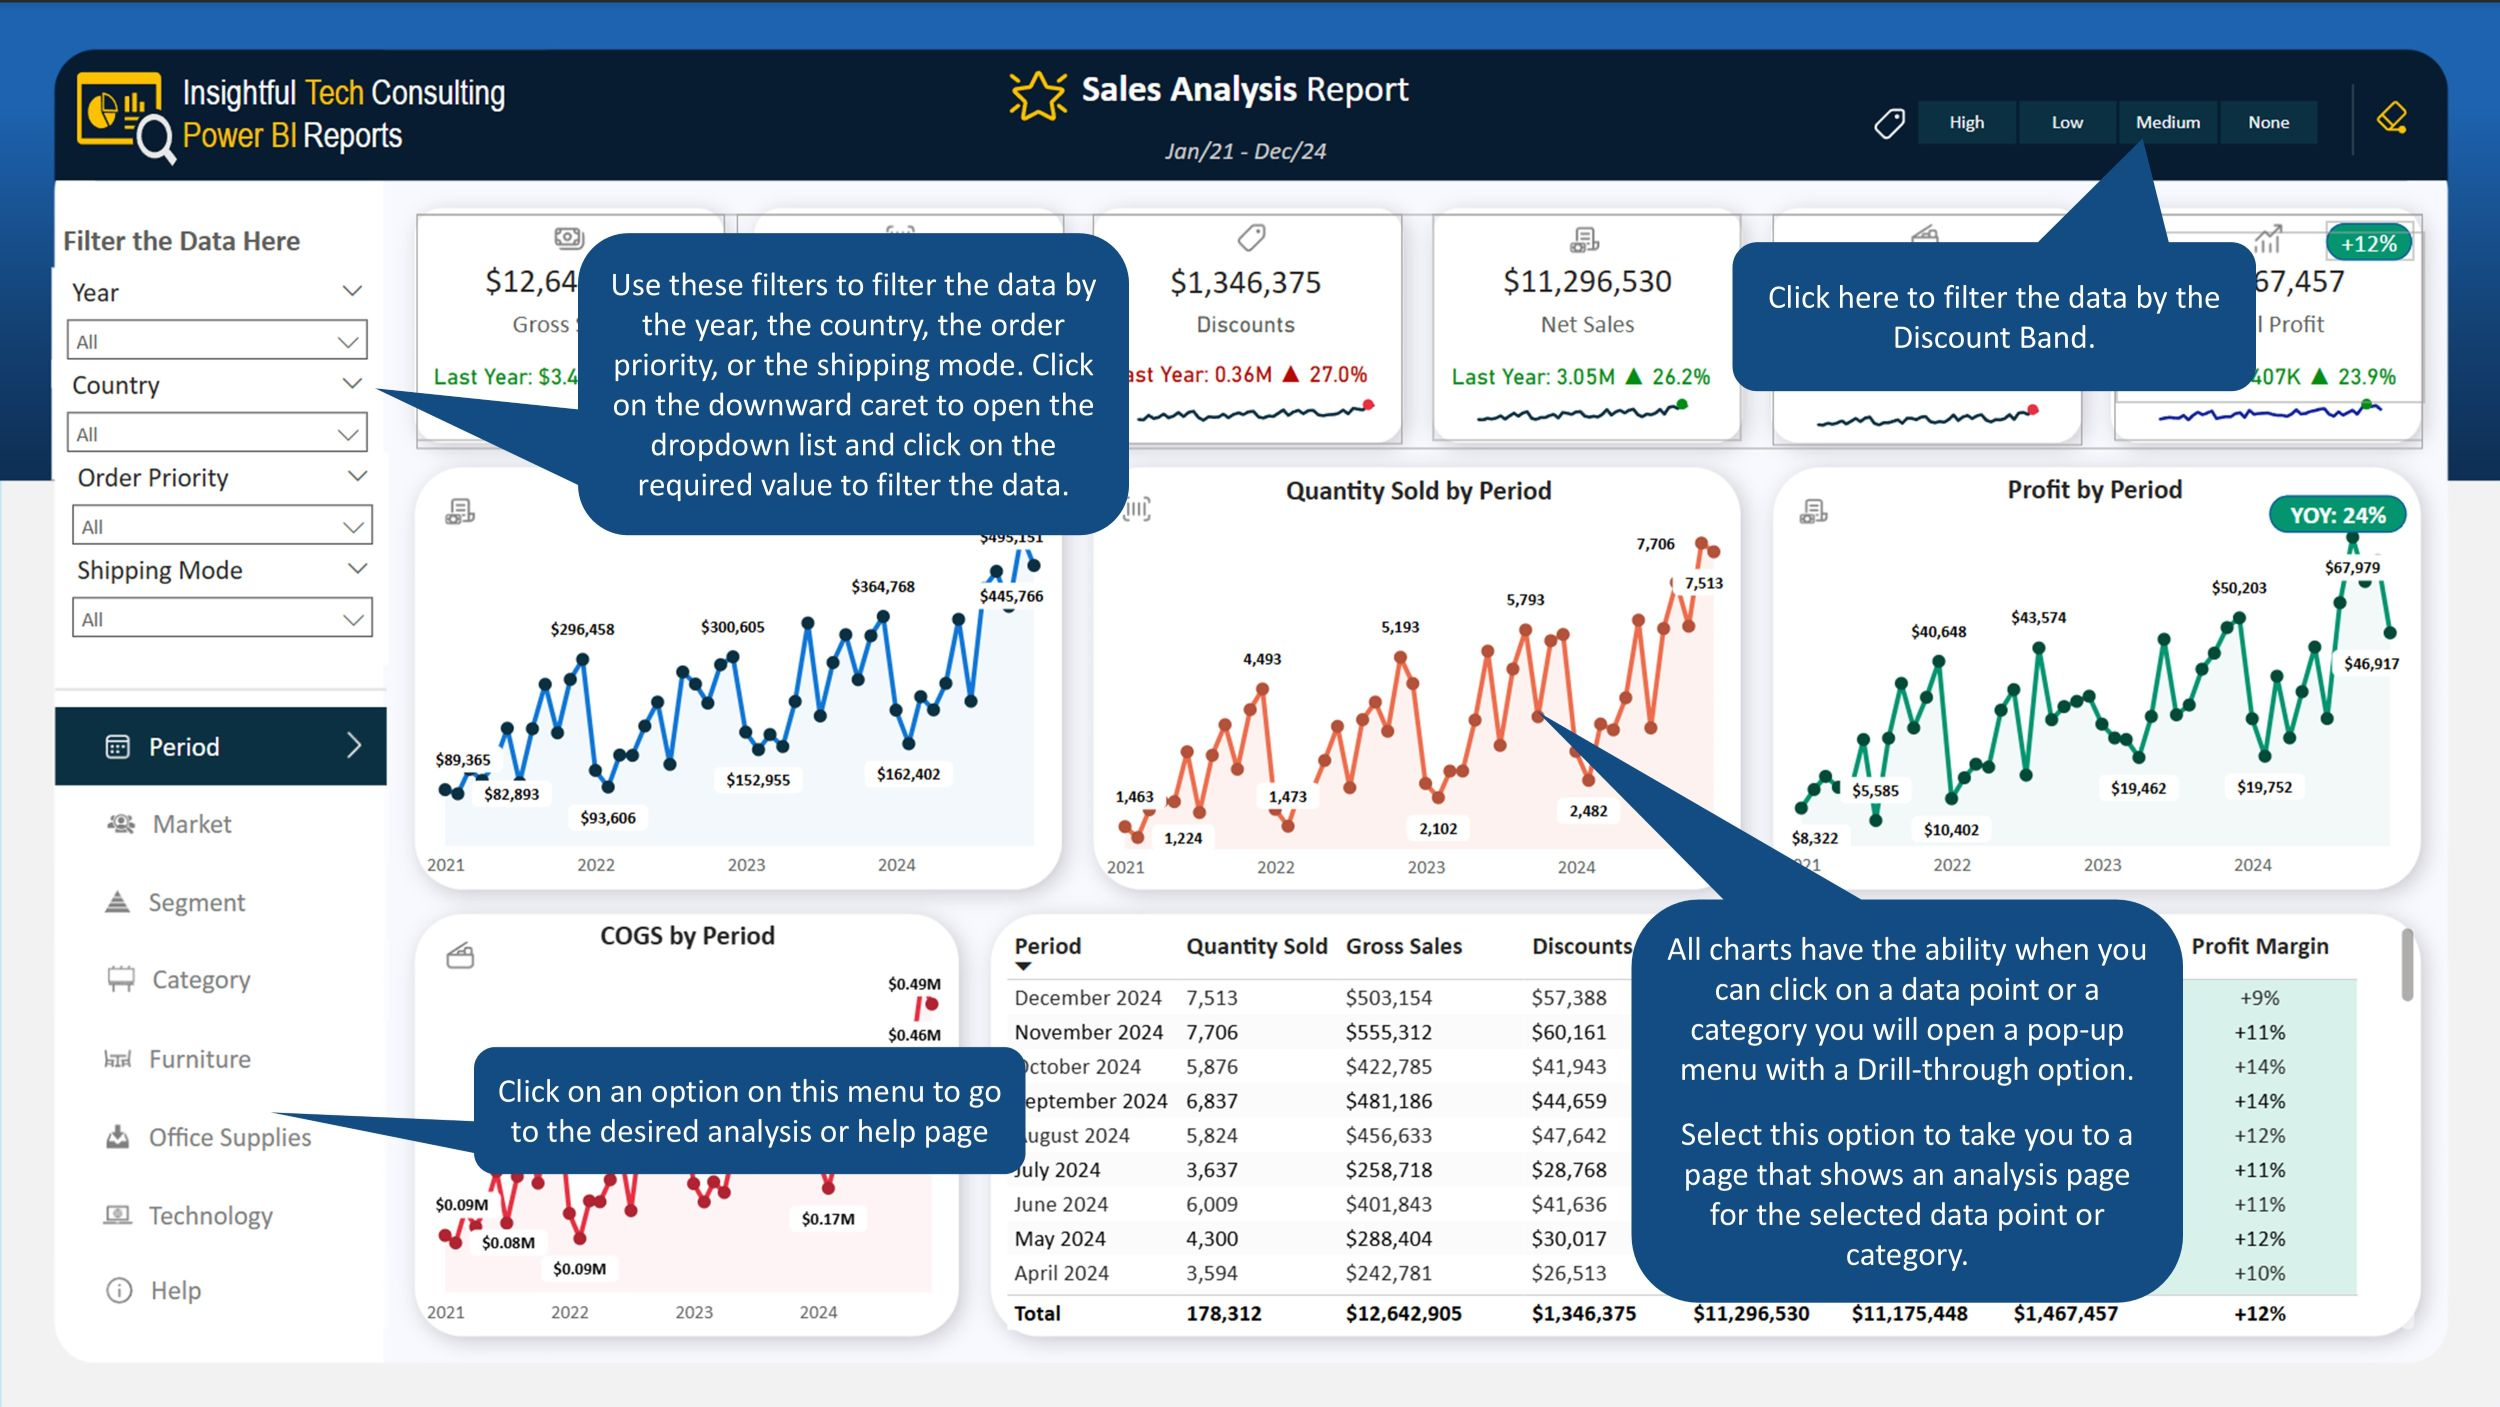

Layout of this report page (visuals, bound fields, positions):
{"tool":"powerbi","page":{"name":"Sales Analysis","canvas":[1600,900],"ordinal":0},"visuals":[{"type":"slicer","fields":{"Values":["Calendar.Year"]},"box":[1346.6,38.7,140,78.5],"z":0},{"type":"actionButton","title":"Gross Sales Icon","box":[348.4,135,31.9,30.7],"z":0,"group":"g8"},{"type":"group","id":"g1","title":"Profit","box":[1351.7,135,197.5,144.4],"z":0,"group":"g6"},{"type":"group","id":"g2","title":"Profit Margin","box":[1487.6,139,55,25.2],"z":0,"group":"g1"},{"type":"shape","title":"Profit Margin Pill","box":[1487.6,140.2,55,24],"z":0,"group":"g2"},{"type":"pivotTable","title":"Net Sales Sparkline","fields":{"Values":["SparklineData(_All Measures.Net Sales_[Calendar.YearMonth])"]},"box":[915.8,219,197.1,60.4],"z":0,"group":"g4"},{"type":"pivotTable","title":"Discounts Sparkline","fields":{"Values":["SparklineData(_All Measures.Total Discounts_[Calendar.YearMonth])"]},"box":[698.5,221.7,198.3,60.4],"z":0,"group":"g5"},{"type":"pivotTable","title":"Cogs Sparkline","fields":{"Values":["SparklineData(_All Measures.Total COGS_[Calendar.YearMonth])"]},"box":[1133.5,222.3,197.7,60.7],"z":0,"group":"g3"},{"type":"pivotTable","title":"Qty Sold Sparkline","fields":{"Values":["SparklineData(_All Measures.Quantity Sold_[Calendar.YearMonth])"]},"box":[470.6,225.6,209.4,60.3],"z":0,"group":"g7"},{"type":"actionButton","title":"Period Button Active","box":[35.2,300.7,212,50],"z":0,"group":"g12"},{"type":"actionButton","title":"Net Sales Chart Icon","box":[279.9,310,30,30],"z":0,"group":"g11"},{"type":"shape","title":"Profit Margin Pill","box":[1450.7,315,88,24],"z":0,"group":"g9"},{"type":"tableEx","title":"Period Table","fields":{"Values":["Calendar.Reporting Period","_All Measures.Quantity Sold","_All Measures.Gross Sales","_All Measures.Total Discounts","_All Measures.Net Sales","_All Measures.Total COGS","_All Measures.Total Profit","_All Measures.Profit Margin Formatted"]},"box":[632.9,586,916.7,267.7],"z":0,"group":"g10"},{"type":"card","title":"Date Selected Text","fields":{"Values":["_All Measures.Date Selection"]},"box":[735.3,76.3,122.9,38.7],"z":1000},{"type":"group","id":"g3","title":"Cogs","box":[1133.5,135,197.7,148],"z":1000,"group":"g6"},{"type":"card","title":"Profit Margin Text","fields":{"Values":["_All Measures.Profit Margin Formatted"]},"box":[1487.6,139,54.5,24.2],"z":1000,"group":"g2"},{"type":"cardVisual","title":"Qty Sold Card","fields":{"Data":["_All Measures.Quantity Sold"]},"box":[482.3,146,196.9,109.3],"z":1000,"group":"g7"},{"type":"cardVisual","title":"Net Sales Card","fields":{"Data":["_All Measures.Net Sales"]},"box":[916.4,146,196.9,109.3],"z":1000,"group":"g4"},{"type":"cardVisual","title":"Cogs Card","fields":{"Data":["_All Measures.Total COGS"]},"box":[1133.5,146,196.4,109.9],"z":1000,"group":"g3"},{"type":"cardVisual","title":"Discounts Card","fields":{"Data":["Calendar.Total Discounts"]},"box":[699.1,146.3,196.9,109.3],"z":1000,"group":"g5"},{"type":"pivotTable","title":"Gross Sales Sparkline","fields":{"Values":["SparklineData(_All Measures.Total Sales_[Calendar.YearMonth])"]},"box":[266.1,219,197.1,60.4],"z":1000,"group":"g8"},{"type":"pivotTable","title":"Profit Sparkline","fields":{"Values":["SparklineData(_All Measures.Total Profit_[Calendar.YearMonth])"]},"box":[1351.7,219,197.1,60.4],"z":1000,"group":"g1"},{"type":"actionButton","title":"Arrow","box":[207,300,32.2,50.2],"z":1000,"group":"g12"},{"type":"card","title":"Profit YOY Card","fields":{"Values":["_All Measures.Profit YOY% Formatted"]},"box":[1451,307,88,43.2],"z":1000,"group":"g9"},{"type":"actionButton","title":"Profit Chart Icon","box":[1146,310,28.8,30.4],"z":1000,"group":"g11"},{"type":"areaChart","title":"COGS by Market","fields":{"Y":["_All Measures.Total COGS"],"Category":["Calendar.Reporting Period"]},"box":[266,586,347.3,267.7],"z":1000,"group":"g10"},{"type":"textbox","title":"Report Title","box":[679.6,35.3,234.5,41],"z":2000},{"type":"actionButton","title":"Qty Sold Icon","box":[560.5,135,29.6,30.8],"z":2000,"group":"g7"},{"type":"actionButton","title":"Discounts Icon","box":[784.7,135,29.6,30.8],"z":2000,"group":"g5"},{"type":"group","id":"g4","title":"Net Sales","box":[915.8,135,197.5,144.4],"z":2000,"group":"g6"},{"type":"actionButton","title":"Net Sales Icon","box":[999.1,135,29.7,31],"z":2000,"group":"g4"},{"type":"actionButton","title":"Cogs Icon","box":[1216.7,135,28.8,30.3],"z":2000,"group":"g3"},{"type":"cardVisual","title":"Gross Sales Card","fields":{"Data":["_All Measures.Total Sales"]},"box":[266.4,146,196.9,109.3],"z":2000,"group":"g8"},{"type":"cardVisual","title":"Profit Card","fields":{"Data":["_All Measures.Total Profit"]},"box":[1352.3,146,196.9,109.3],"z":2000,"group":"g1"},{"type":"areaChart","title":"Net Sales by Period","fields":{"Category":["Calendar.Reporting Period"],"Y":["_All Measures.Net Sales"]},"box":[266,300,412.6,267.7],"z":2000,"group":"g10"},{"type":"actionButton","title":"Qty Sold Chart Icon","box":[713,310,30.4,28.8],"z":2000,"group":"g11"},{"type":"image","box":[67.2,35.2,144,76.8],"z":3000},{"type":"group","id":"g5","title":"Discounts","box":[698.5,135,198.3,147.1],"z":3000,"group":"g6"},{"type":"actionButton","title":"Profit Icon","box":[1435,135,30,30.8],"z":3000,"group":"g1"},{"type":"areaChart","title":"Quantity Sold by Period","fields":{"Category":["Calendar.Reporting Period"],"Y":["_All Measures.Quantity Sold"]},"box":[700.8,301.3,412.6,267.7],"z":3000,"group":"g10"},{"type":"actionButton","title":"Cogs Chart Icon","box":[279.9,595,28.8,30.4],"z":3000,"group":"g11"},{"type":"group","id":"g6","title":"KPIs","box":[266.1,135,1283.1,150.9],"z":4000},{"type":"group","id":"g7","title":"Qty Sold","box":[470.6,135,209.4,150.9],"z":4000,"group":"g6"},{"type":"areaChart","title":"Profit by Period","fields":{"Y":["_All Measures.Total Profit"],"Category":["Calendar.Reporting Period"]},"box":[1133,300,412.6,267.7],"z":4000,"group":"g10"},{"type":"group","id":"g8","title":"Gross Sales","box":[266.1,135,197.2,144.4],"z":5000,"group":"g6"},{"type":"group","id":"g9","title":"YoY","box":[1450.7,307,88.2,43.2],"z":5000,"group":"g10"},{"type":"group","id":"g10","title":"Period","box":[266,300,1283.6,553.6],"z":7000},{"type":"group","id":"g11","title":"Static","box":[279.9,310,894.9,315.4],"z":12000},{"type":"actionButton","title":"Technology Button","box":[35,600,212.1,50.1],"z":13000},{"type":"actionButton","title":"Office Supplies Button","box":[35,550,212.1,50.1],"z":14000},{"type":"actionButton","title":"Furniture Button","box":[35,500,212,50.1],"z":15000},{"type":"actionButton","title":"Category Button","box":[36.8,450,211.5,49.7],"z":16000},{"type":"actionButton","title":"Segment Button","box":[35,400,212,50.1],"z":17000},{"type":"actionButton","title":"Market Button","box":[36.8,350.9,211.5,49.7],"z":18000},{"type":"group","id":"g12","title":"Period Button Active","box":[35.2,300,213.1,49.7],"z":23000}]}

Visuals, with their boxes in screenshot pixels (x1, y1, x2, y2), scaled from the page's 1600x900 canvas onto the 2500x1407 screenshot:
slicer - Calendar.Year: <box>2104,61,2323,183</box>
"Gross Sales Icon" actionButton: <box>544,211,594,259</box>
"Profit" group: <box>2112,211,2421,437</box>
"Profit Margin" group: <box>2324,217,2410,257</box>
"Profit Margin Pill" shape: <box>2324,219,2410,257</box>
"Net Sales Sparkline" pivotTable: <box>1431,342,1739,437</box>
"Discounts Sparkline" pivotTable: <box>1091,347,1401,441</box>
"Cogs Sparkline" pivotTable: <box>1771,348,2080,442</box>
"Qty Sold Sparkline" pivotTable: <box>735,353,1062,447</box>
"Period Button Active" actionButton: <box>55,470,386,548</box>
"Net Sales Chart Icon" actionButton: <box>437,485,484,532</box>
"Profit Margin Pill" shape: <box>2267,492,2404,530</box>
"Period Table" tableEx: <box>989,916,2421,1335</box>
"Date Selected Text" card: <box>1149,119,1341,180</box>
"Cogs" group: <box>1771,211,2080,442</box>
"Profit Margin Text" card: <box>2324,217,2410,255</box>
"Qty Sold Card" cardVisual: <box>754,228,1061,399</box>
"Net Sales Card" cardVisual: <box>1432,228,1740,399</box>
"Cogs Card" cardVisual: <box>1771,228,2078,400</box>
"Discounts Card" cardVisual: <box>1092,229,1400,400</box>
"Gross Sales Sparkline" pivotTable: <box>416,342,724,437</box>
"Profit Sparkline" pivotTable: <box>2112,342,2420,437</box>
"Arrow" actionButton: <box>323,469,374,547</box>
"Profit YOY Card" card: <box>2267,480,2405,547</box>
"Profit Chart Icon" actionButton: <box>1791,485,1836,532</box>
"COGS by Market" areaChart: <box>416,916,958,1335</box>
"Report Title" textbox: <box>1062,55,1428,119</box>
"Qty Sold Icon" actionButton: <box>876,211,922,259</box>
"Discounts Icon" actionButton: <box>1226,211,1272,259</box>
"Net Sales" group: <box>1431,211,1740,437</box>
"Net Sales Icon" actionButton: <box>1561,211,1608,260</box>
"Cogs Icon" actionButton: <box>1901,211,1946,258</box>
"Gross Sales Card" cardVisual: <box>416,228,724,399</box>
"Profit Card" cardVisual: <box>2113,228,2421,399</box>
"Net Sales by Period" areaChart: <box>416,469,1060,888</box>
"Qty Sold Chart Icon" actionButton: <box>1114,485,1162,530</box>
image: <box>105,55,330,175</box>
"Discounts" group: <box>1091,211,1401,441</box>
"Profit Icon" actionButton: <box>2242,211,2289,259</box>
"Quantity Sold by Period" areaChart: <box>1095,471,1740,890</box>
"Cogs Chart Icon" actionButton: <box>437,930,482,978</box>
"KPIs" group: <box>416,211,2421,447</box>
"Qty Sold" group: <box>735,211,1062,447</box>
"Profit by Period" areaChart: <box>1770,469,2415,888</box>
"Gross Sales" group: <box>416,211,724,437</box>
"YoY" group: <box>2267,480,2405,547</box>
"Period" group: <box>416,469,2421,1334</box>
"Static" group: <box>437,485,1836,978</box>
"Technology Button" actionButton: <box>55,938,386,1016</box>
"Office Supplies Button" actionButton: <box>55,860,386,938</box>
"Furniture Button" actionButton: <box>55,782,386,860</box>
"Category Button" actionButton: <box>57,704,388,781</box>
"Segment Button" actionButton: <box>55,625,386,704</box>
"Market Button" actionButton: <box>57,549,388,626</box>
"Period Button Active" group: <box>55,469,388,547</box>
